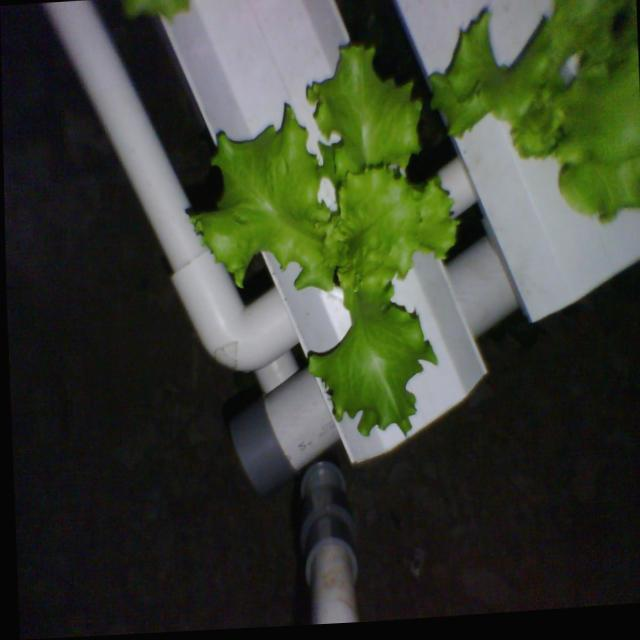FN: (168, 17, 477, 469), (434, 0, 640, 241)
